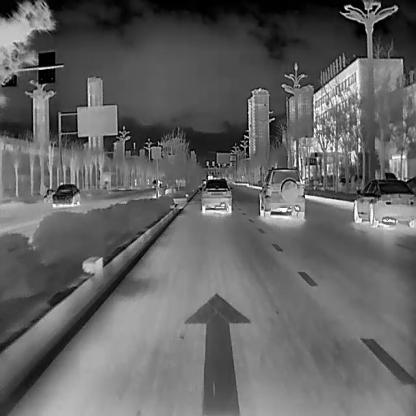car: (352, 178, 414, 227), (257, 166, 304, 218), (198, 179, 232, 213), (50, 184, 80, 208)
